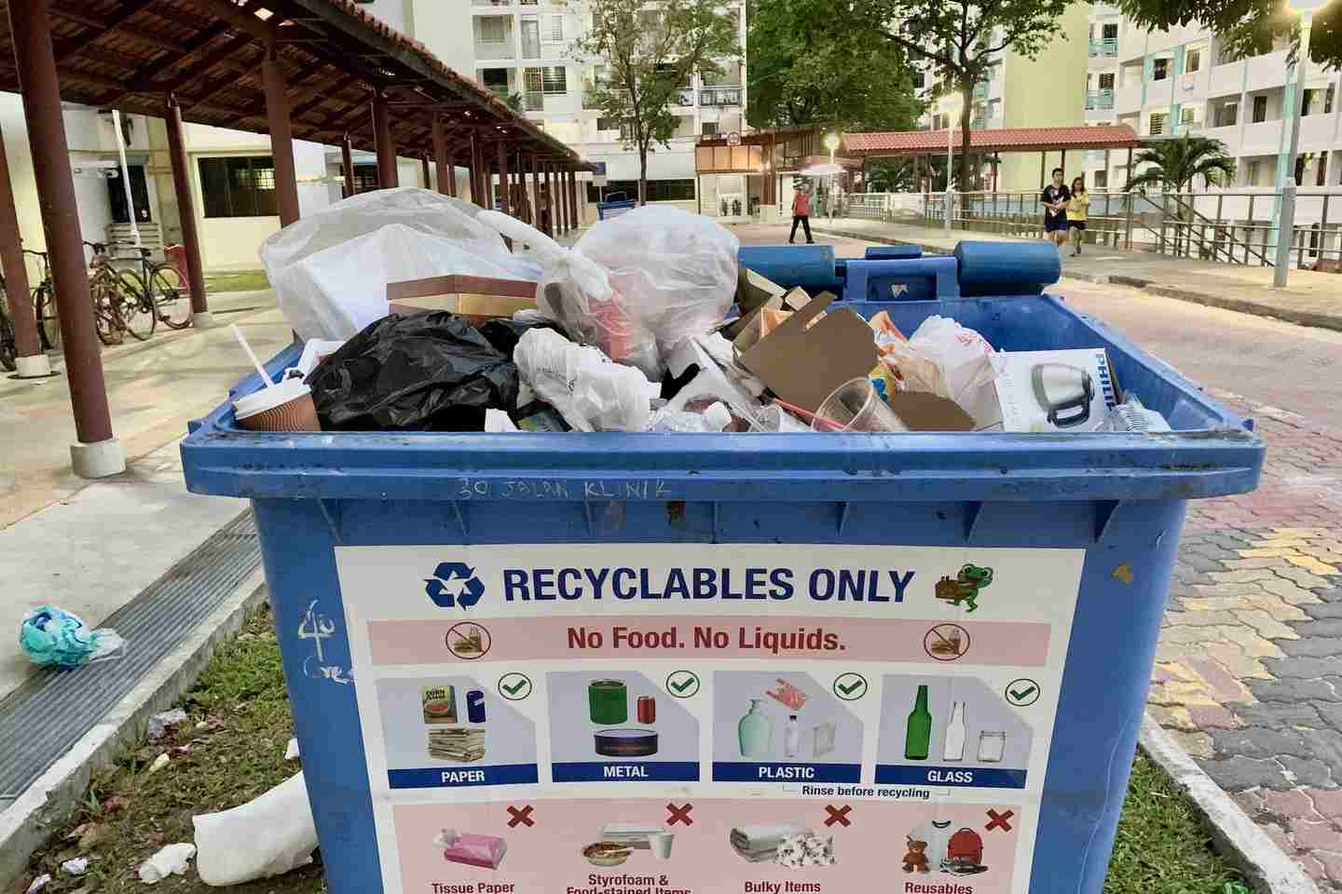bin_full: (181, 187, 1264, 893)
normal_waste: (194, 771, 317, 886)
